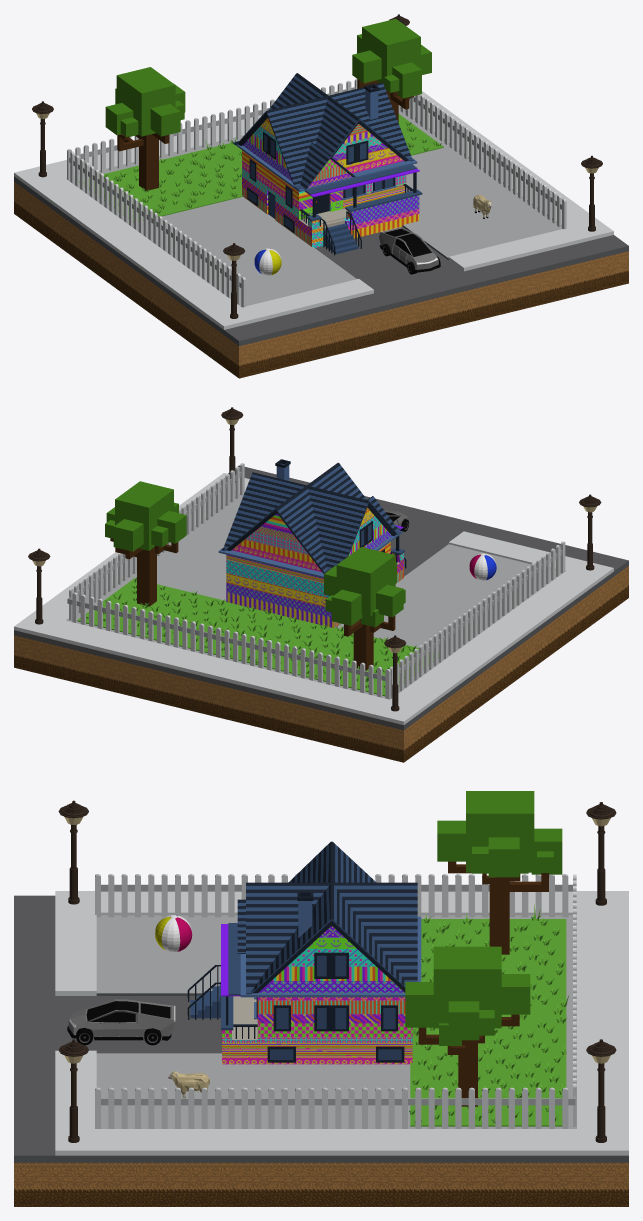
The picture shows the model from 3 angles, top to bottom: view 1: azimuth 30°, elevation 25°; view 2: azimuth 150°, elevation 25°; view 3: azimuth 270°, elevation 25°; orthographic projection. The views are drawn at different scales.
Parts seen in each view (by area): view 1: Cube.004, Cube.676, VEHICLES_CYBERTRUCK, OBJRANDOM_BEACHBALL; view 2: Cube.004, Cube.676, OBJRANDOM_BEACHBALL; view 3: Cube.004, Cube.676, VEHICLES_CYBERTRUCK, OBJRANDOM_BEACHBALL, ANIMAL_OVEJA.
Part boxes in pixels (x1,y1,x2,y2): Cube.004: [14, 14, 628, 378]; Cube.676: [233, 73, 422, 255]; VEHICLES_CYBERTRUCK: [379, 227, 440, 274]; OBJRANDOM_BEACHBALL: [254, 248, 281, 275]; Cube.004: [14, 407, 628, 762]; Cube.676: [218, 459, 406, 627]; OBJRANDOM_BEACHBALL: [469, 553, 496, 580]; Cube.004: [14, 791, 628, 1206]; Cube.676: [187, 841, 421, 1064]; VEHICLES_CYBERTRUCK: [67, 999, 175, 1045]; OBJRANDOM_BEACHBALL: [155, 915, 192, 952]; ANIMAL_OVEJA: [168, 1071, 209, 1098].
Size of the model in its own units: 4000 by 1600 by 4000.
35 materials, 7 textured.
